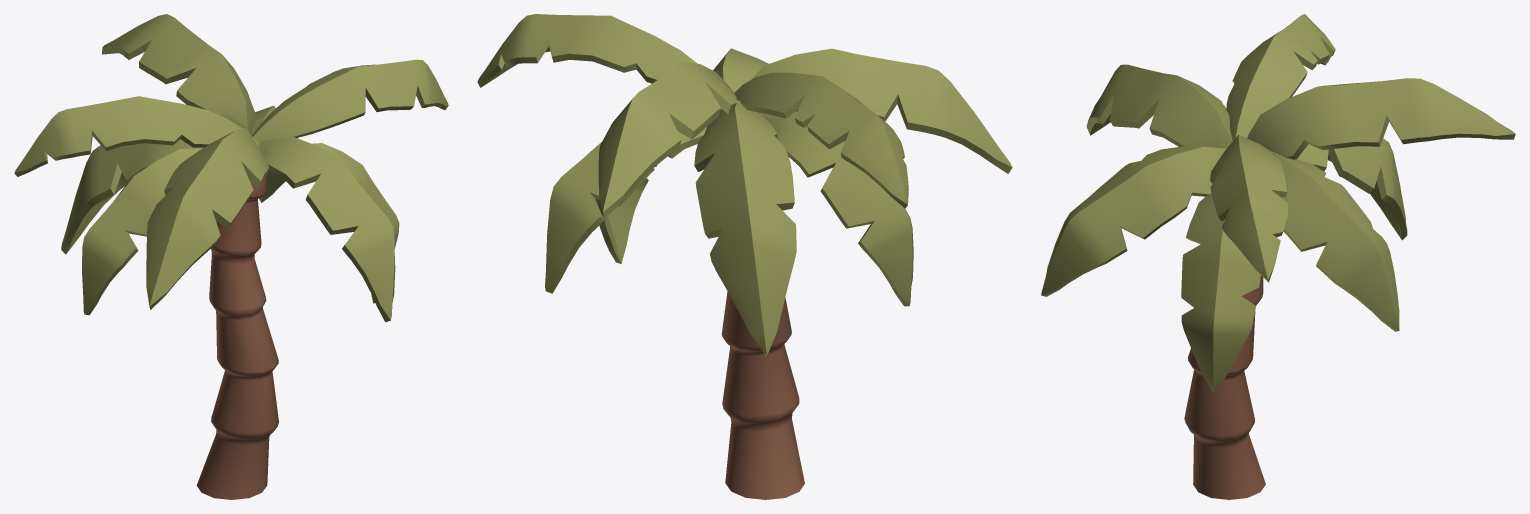
The model's file is q-palm-tree-a6ckjyfslb.glb.
3 renders of one model, left to right at view 1: azimuth 30°, elevation 25°; view 2: azimuth 150°, elevation 25°; view 3: azimuth 270°, elevation 25°, orthographic. The views are drawn at different scales.
Parts seen in each view (by area): view 1: Environment_PalmTree_3; view 2: Environment_PalmTree_3; view 3: Environment_PalmTree_3.
Part boxes in pixels (x1,y1,x2,y2): Environment_PalmTree_3: (14,14,448,499); Environment_PalmTree_3: (477,14,1012,499); Environment_PalmTree_3: (1041,14,1515,499).
Bounding box in the file's own units: 2.86 × 2.69 × 2.75.
Materials: 1 (1 with a texture image).
